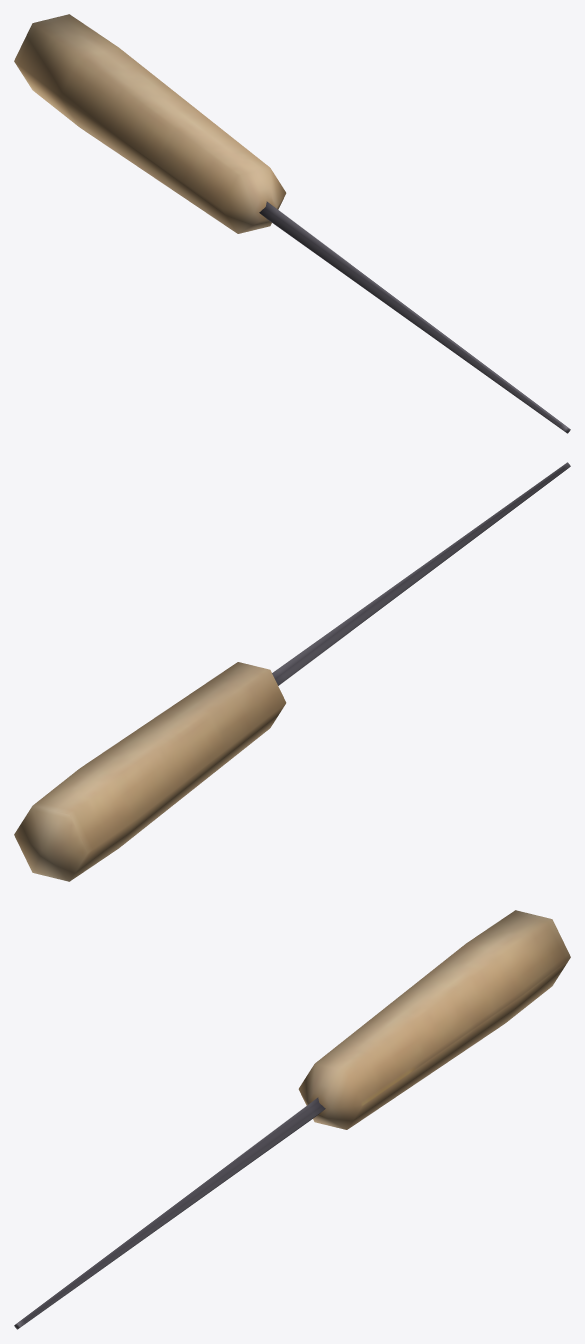
Rendered from jsf_Awl_03.fbx.
3 views of the same model, one above another, from view 1: azimuth 30°, elevation 25°; view 2: azimuth 150°, elevation 25°; view 3: azimuth 330°, elevation 25° (orthographic).
Visible parts, largest first — view 1: jsf_Awl_03; view 2: jsf_Awl_03; view 3: jsf_Awl_03.
Part boxes in pixels (bbox=[...]): jsf_Awl_03: bbox=[14, 14, 570, 433]; jsf_Awl_03: bbox=[14, 462, 570, 881]; jsf_Awl_03: bbox=[14, 910, 570, 1329].
Bounding box in the file's own units: 1.82 × 1.58 × 21.25.
